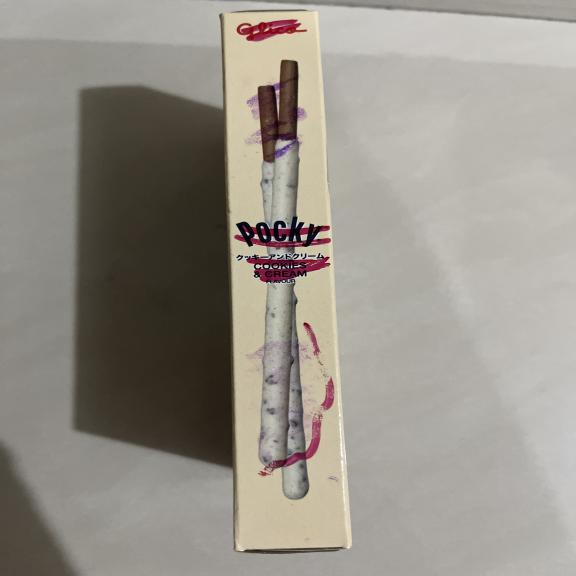Kertas: (221, 9, 354, 554)
